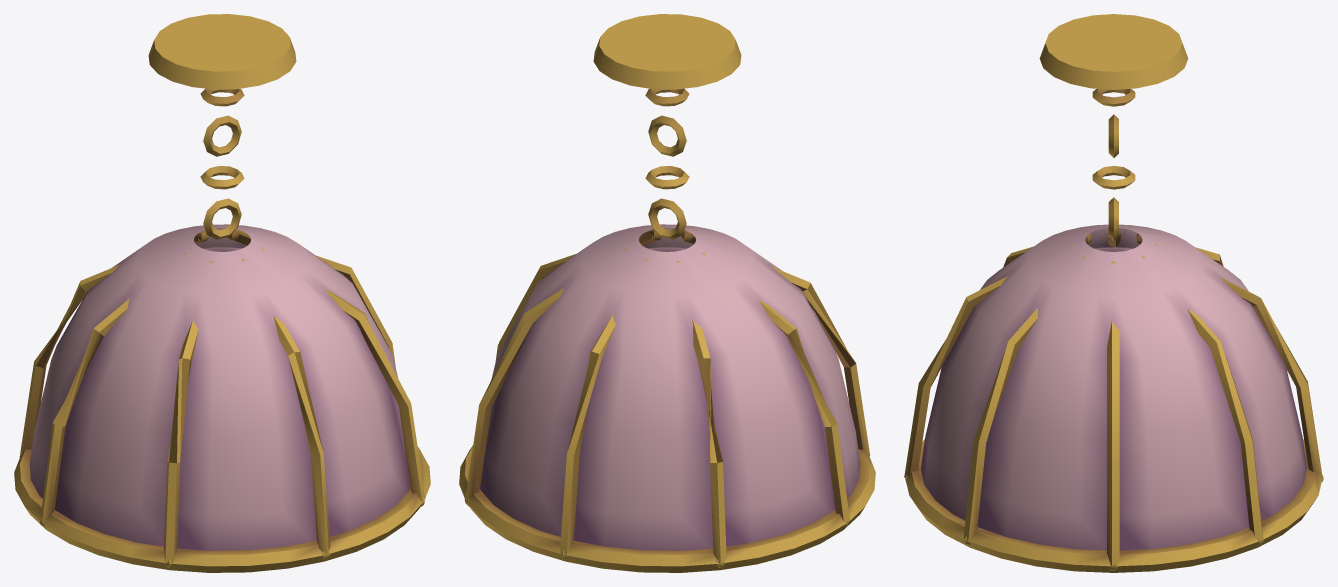
Rendered from lamp_patisserie.glb.
3 views of the same model, side by side, from view 1: azimuth 30°, elevation 25°; view 2: azimuth 150°, elevation 25°; view 3: azimuth 270°, elevation 25° (orthographic).
Visible parts, largest first — view 1: lamp_patisserie; view 2: lamp_patisserie; view 3: lamp_patisserie.
Part boxes in pixels (left/top/right/bottom): lamp_patisserie: left=14, top=14, right=430, bottom=572; lamp_patisserie: left=459, top=14, right=875, bottom=572; lamp_patisserie: left=904, top=14, right=1323, bottom=572.
Size of the model in its own units: 0.7329 by 0.8573 by 0.7339.
